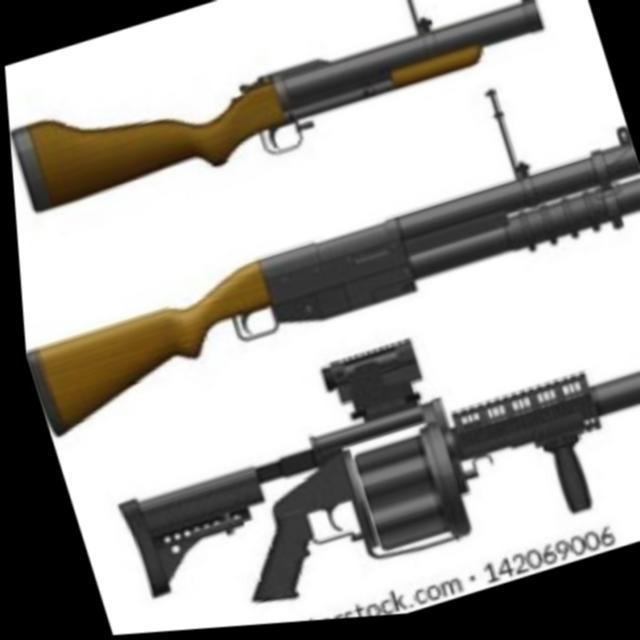weapon: (80, 276, 640, 636), (0, 0, 563, 229)
